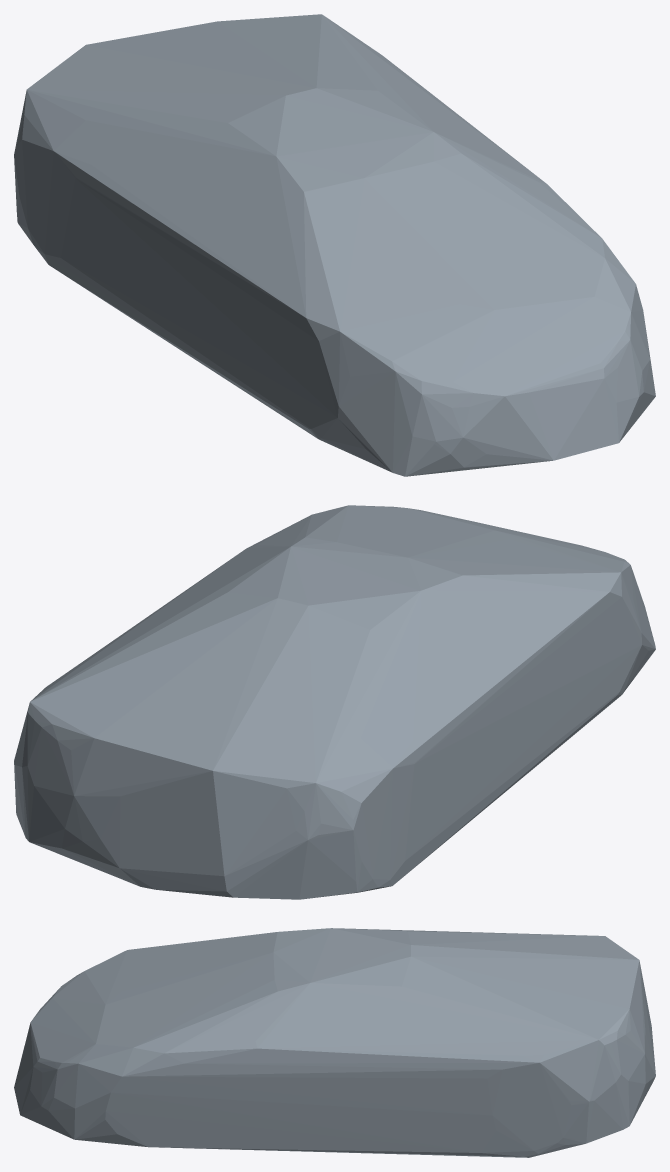
The model's file is v12-goblin-collision.glb.
3 views of the same model, one above another, from view 1: azimuth 30°, elevation 25°; view 2: azimuth 150°, elevation 25°; view 3: azimuth 270°, elevation 25° (orthographic). The views are drawn at different scales.
Visible parts, largest first — view 1: v12-goblin_collision; view 2: v12-goblin_collision; view 3: v12-goblin_collision.
Part boxes in pixels (bbox=[...]): v12-goblin_collision: bbox=[14, 14, 655, 476]; v12-goblin_collision: bbox=[14, 505, 655, 899]; v12-goblin_collision: bbox=[14, 928, 655, 1157].
Size of the model in its own units: 2.18 by 1.16 by 4.55.
